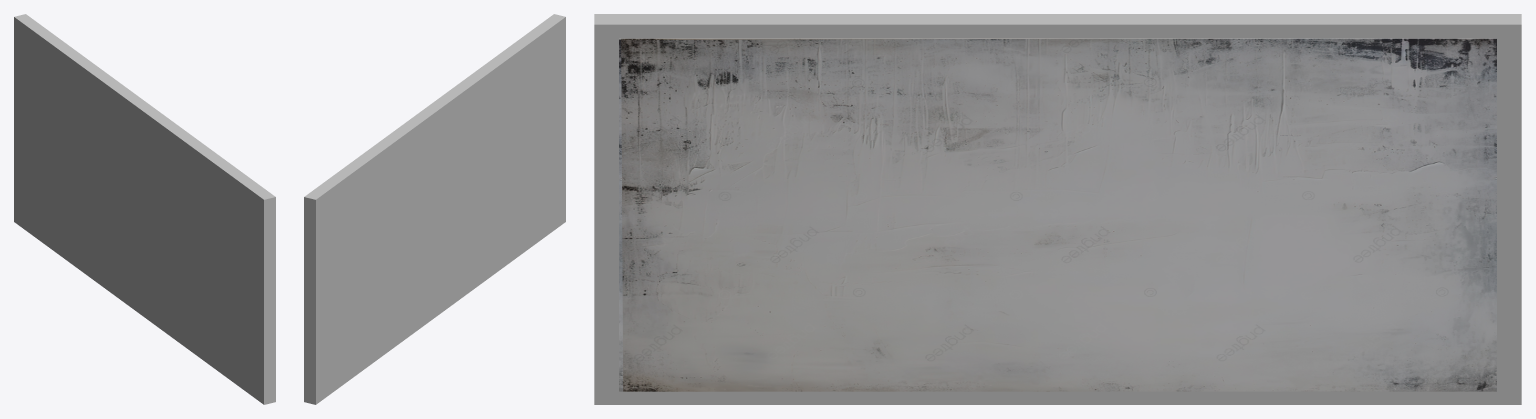
Rendered from pizarron.obj.
The picture shows the model from 3 angles, left to right: view 1: azimuth 30°, elevation 25°; view 2: azimuth 150°, elevation 25°; view 3: azimuth 270°, elevation 25°; orthographic projection. The views are drawn at different scales.
Parts seen in each view (by area): view 1: Cube; view 2: Cube; view 3: Cube.001, Cube.
Boxes of the visible parts, bbox=[...] form: Cube: bbox=[14, 14, 275, 404]; Cube: bbox=[304, 14, 565, 404]; Cube.001: bbox=[619, 38, 1496, 391]; Cube: bbox=[594, 14, 1521, 404].
Bounding box in the file's own units: 0.0102 × 0.1646 × 0.3637.
